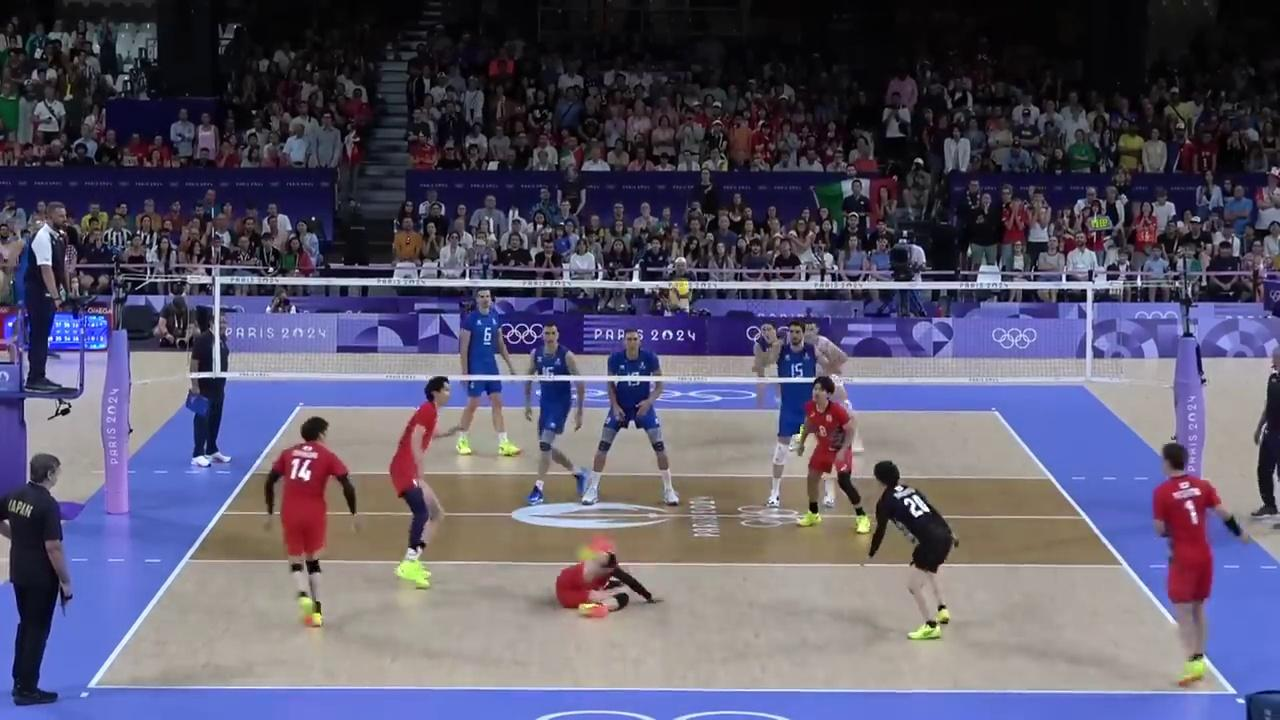ball: (671, 282, 692, 307)
